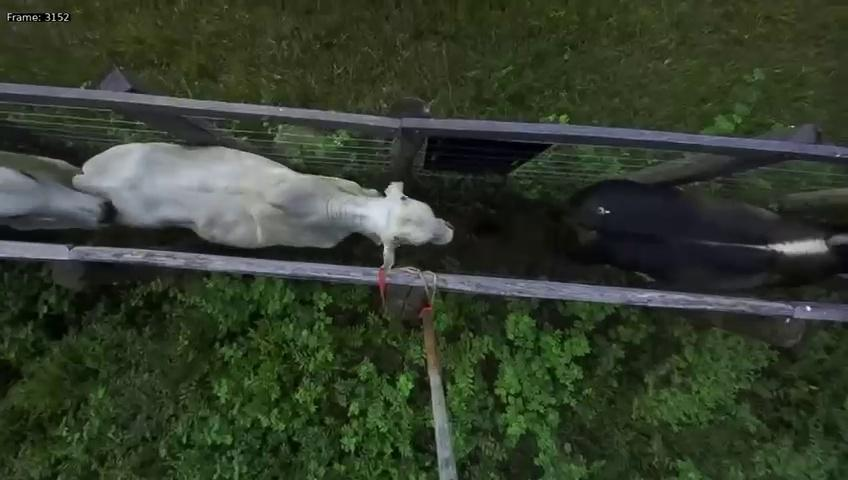cattle: (67, 137, 461, 277)
